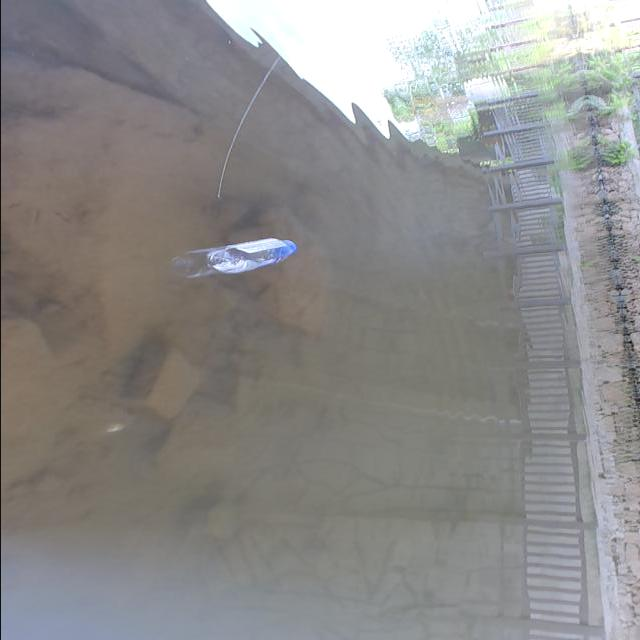bottle: (200, 231, 299, 280)
